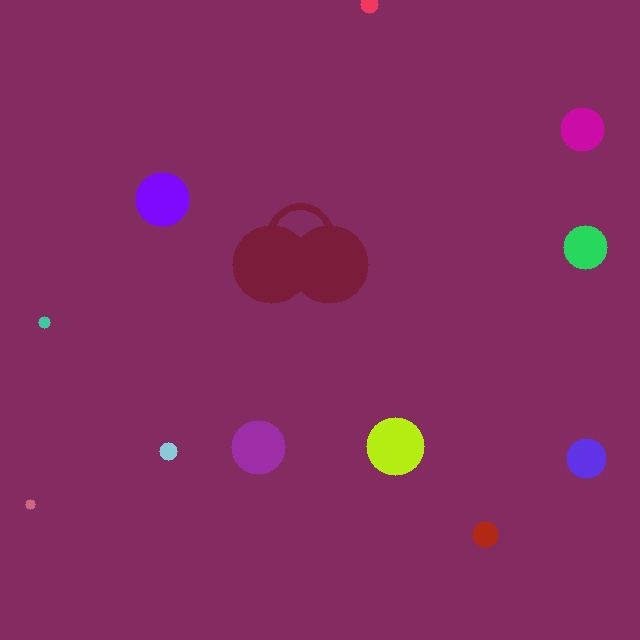over_ear: (228, 203, 372, 307)
